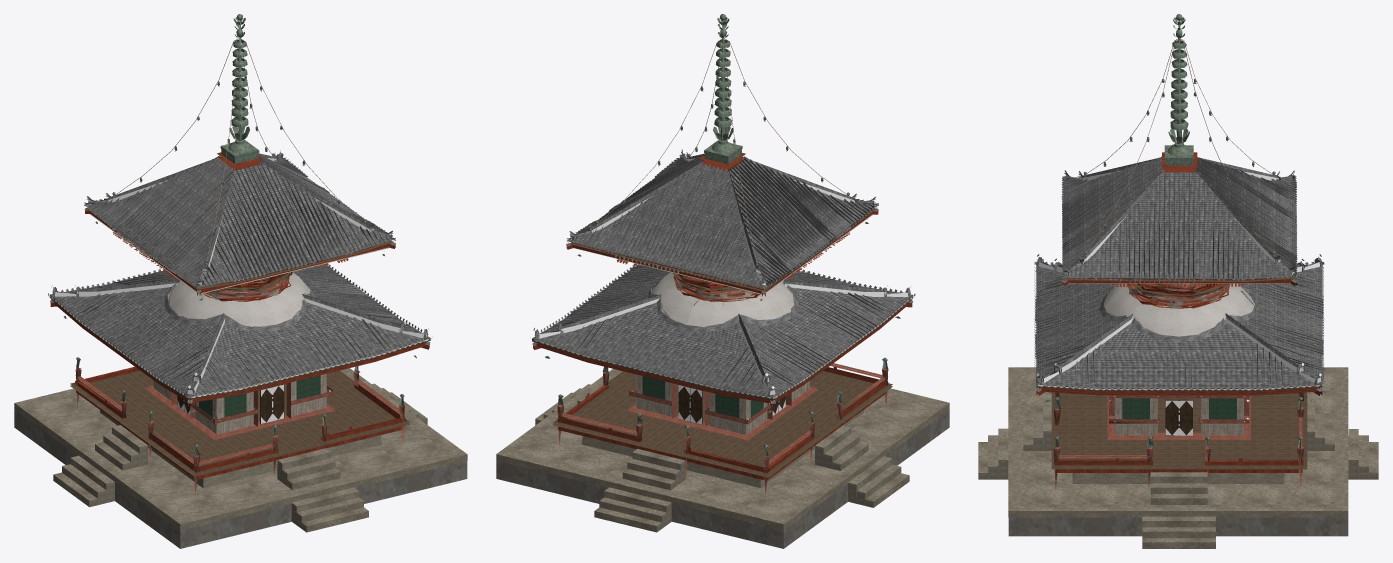
The model's file is Pagoda_Tahoto_20m.gltf.
3 renders of one model, left to right at view 1: azimuth 30°, elevation 25°; view 2: azimuth 150°, elevation 25°; view 3: azimuth 270°, elevation 25°, orthographic. The views are drawn at different scales.
Visible parts, largest first — view 1: Base_LOD0, Roof1_LOD0, Roof2_LOD0, Wall1_LOD0, Wall2_LOD0, Sorin_LOD0, Chainbell_LOD0; view 2: Base_LOD0, Roof1_LOD0, Roof2_LOD0, Wall1_LOD0, Wall2_LOD0, Sorin_LOD0, Chainbell_LOD0; view 3: Base_LOD0, Roof1_LOD0, Roof2_LOD0, Wall2_LOD0, Wall1_LOD0, Sorin_LOD0, Chainbell_LOD0, Door_ER_LOD0, Door_EL_LOD0.
Boxes of the visible parts, <box> form: Base_LOD0: <box>14,357,467,548</box>; Roof1_LOD0: <box>48,264,432,403</box>; Roof2_LOD0: <box>84,150,395,294</box>; Wall1_LOD0: <box>50,302,429,439</box>; Wall2_LOD0: <box>85,210,395,326</box>; Sorin_LOD0: <box>220,14,259,163</box>; Chainbell_LOD0: <box>112,38,366,265</box>; Base_LOD0: <box>496,357,949,548</box>; Roof1_LOD0: <box>530,264,915,403</box>; Roof2_LOD0: <box>566,149,878,294</box>; Wall1_LOD0: <box>533,303,912,440</box>; Wall2_LOD0: <box>566,211,878,326</box>; Sorin_LOD0: <box>704,14,742,163</box>; Chainbell_LOD0: <box>595,38,849,266</box>; Base_LOD0: <box>978,367,1378,548</box>; Roof1_LOD0: <box>1034,254,1324,395</box>; Roof2_LOD0: <box>1061,152,1297,286</box>; Wall2_LOD0: <box>1062,281,1297,336</box>; Wall1_LOD0: <box>1036,390,1322,439</box>; Sorin_LOD0: <box>1164,14,1193,165</box>; Chainbell_LOD0: <box>1083,39,1275,257</box>; Door_ER_LOD0: <box>1178,399,1192,435</box>; Door_EL_LOD0: <box>1165,399,1178,435</box>.
Bounding box in the file's own units: 16.16 × 20.06 × 16.18.
15 materials, 14 textured.
